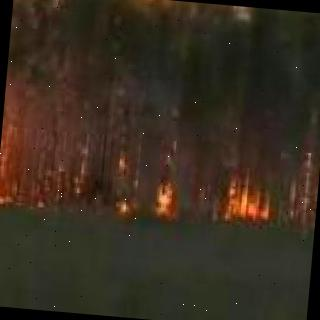fire: (224, 168, 275, 225), (151, 172, 178, 218), (0, 76, 6, 205)
